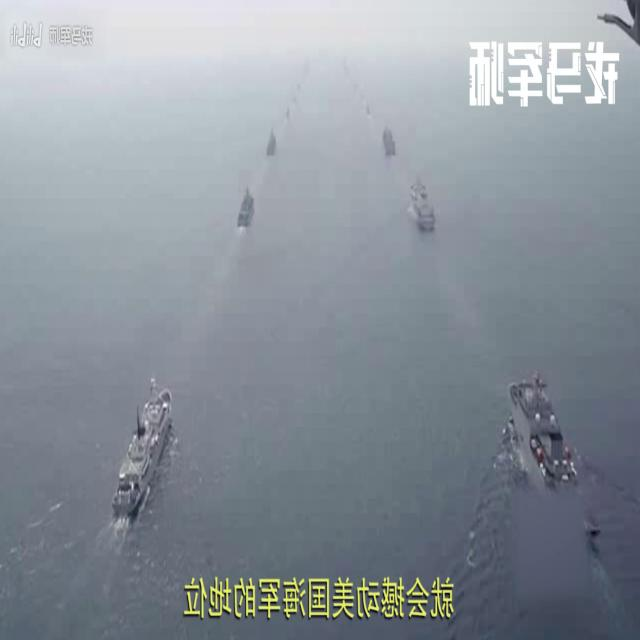navalvessels: (508, 370, 602, 540), (112, 374, 174, 522), (410, 177, 437, 229), (238, 187, 255, 231), (381, 124, 396, 160), (265, 128, 276, 162)
